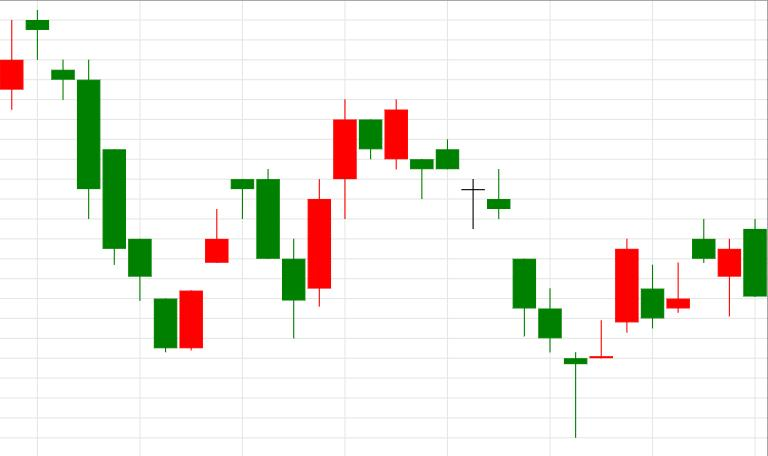bullish_engulfing_rise: (26, 10, 202, 353)
